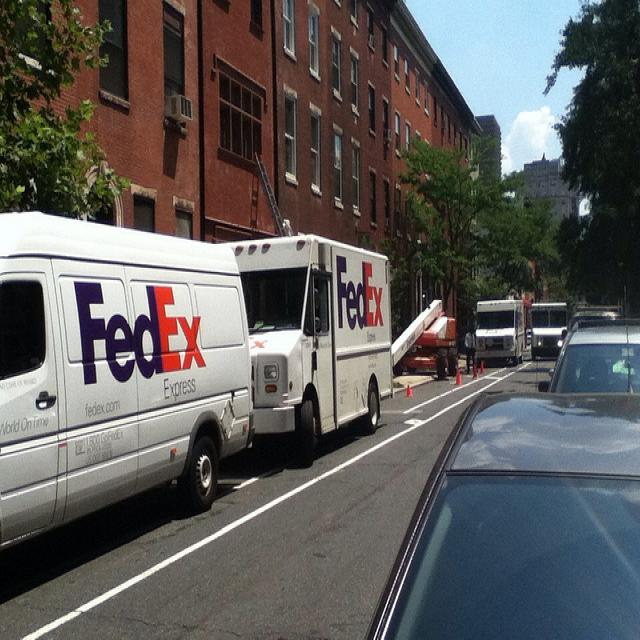Vehicle: (1, 212, 258, 552), (376, 393, 640, 631), (231, 234, 395, 466), (538, 322, 640, 395), (474, 298, 525, 366), (530, 302, 568, 362), (569, 308, 621, 331)
